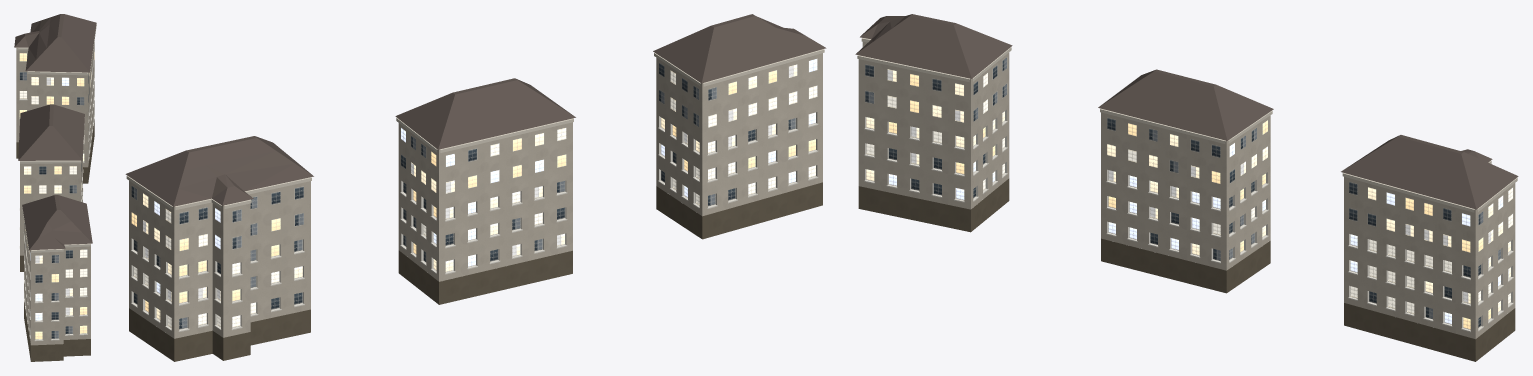
Rendered from z3a_see_b.glb.
3 views of the same model, side by side, from view 1: azimuth 30°, elevation 25°; view 2: azimuth 150°, elevation 25°; view 3: azimuth 270°, elevation 25° (orthographic). The views are drawn at different scales.
Visible parts, largest first — view 1: z3a_see_b; view 2: z3a_see_b; view 3: z3a_see_b.
Boxes of the visible parts, x1=… form: z3a_see_b: x1=14, y1=14, x2=96, y2=361; z3a_see_b: x1=125, y1=14, x2=826, y2=361; z3a_see_b: x1=855, y1=14, x2=1518, y2=361.
Bounding box in the file's own units: 54.06 × 24.45 × 79.46.
Materials: 3 (3 with a texture image).
